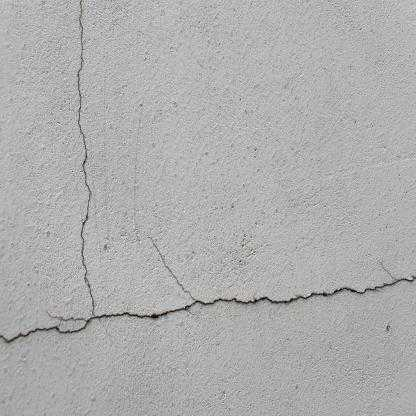crack: (2, 4, 413, 346)
